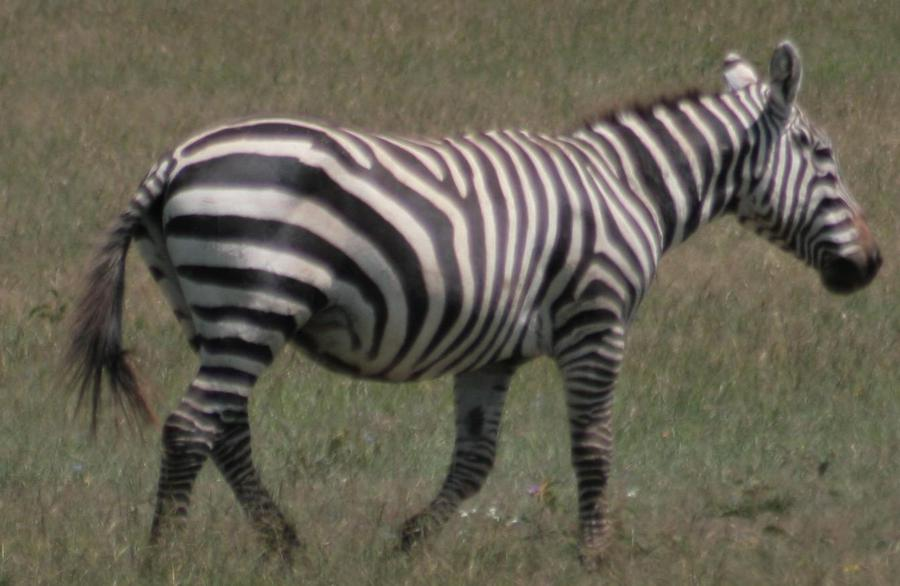zebra_plains: (139, 62, 693, 425)
